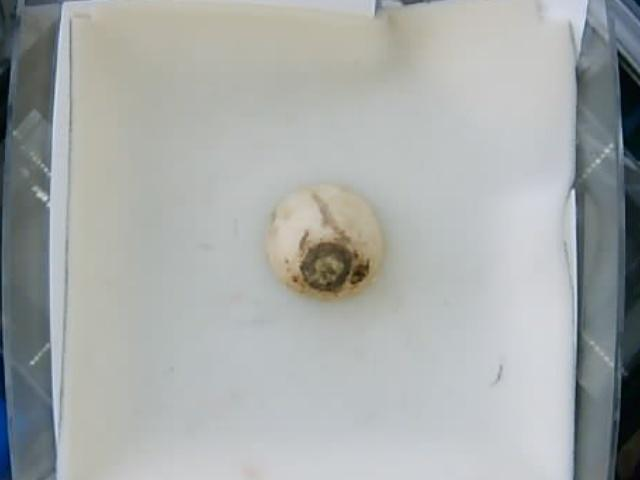Mooli: (268, 184, 383, 301)
